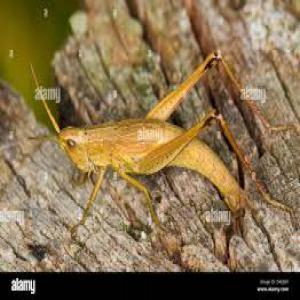locust: (31, 90, 259, 246)
